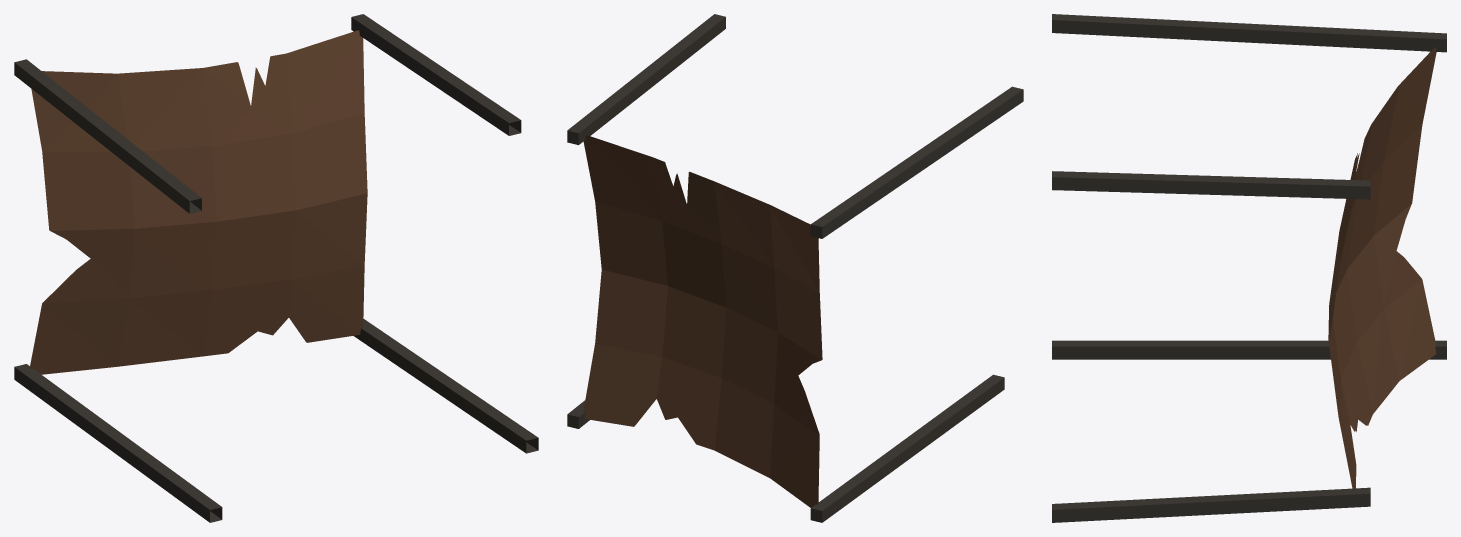
File: Shelter 01 Brown.FBX
3 views of the same model, side by side, from view 1: azimuth 30°, elevation 25°; view 2: azimuth 150°, elevation 25°; view 3: azimuth 270°, elevation 25° (orthographic). The views are drawn at different scales.
Parts seen in each view (by area): view 1: Shelter 01 Brown; view 2: Shelter 01 Brown; view 3: Shelter 01 Brown.
Boxes of the visible parts, x1,y1,x2,y2 form: Shelter 01 Brown: [14, 14, 538, 522]; Shelter 01 Brown: [567, 14, 1023, 522]; Shelter 01 Brown: [1052, 14, 1446, 522].
Bounding box in the file's own units: 294 × 285 × 269.
